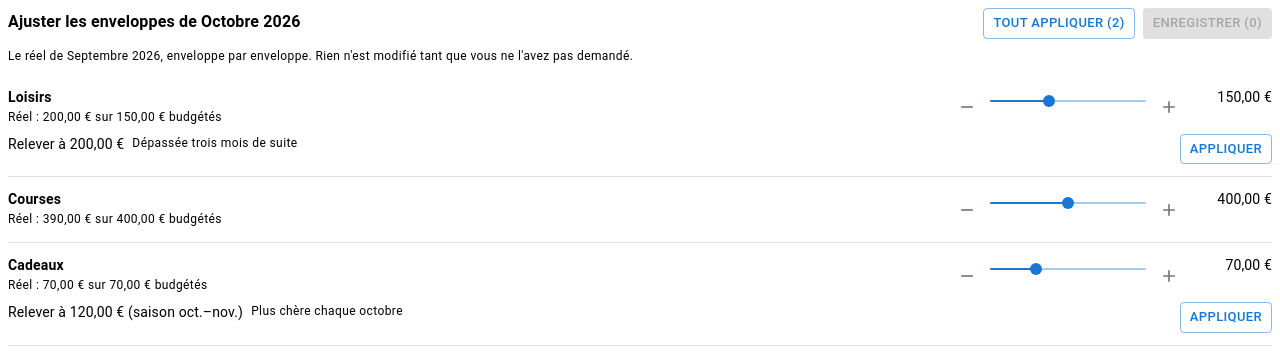
Test: EnvelopeAdjustments › stepping back to the stored amount leaves nothing to save
This screenshot has width=1280, height=363.
Click the button named "Augmenter Courses": [1169, 210] box [1154,189,1184,230]
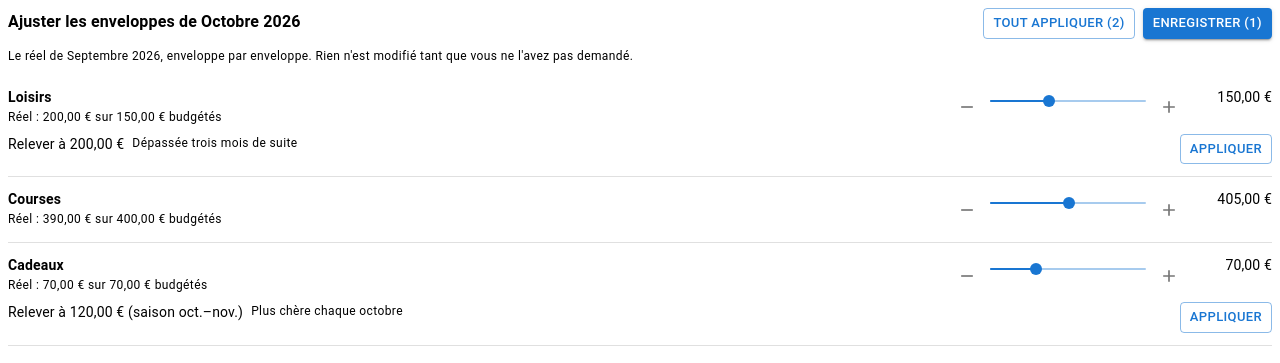
Click the button named "Diminuer Courses": [967, 210] box [952,189,982,230]
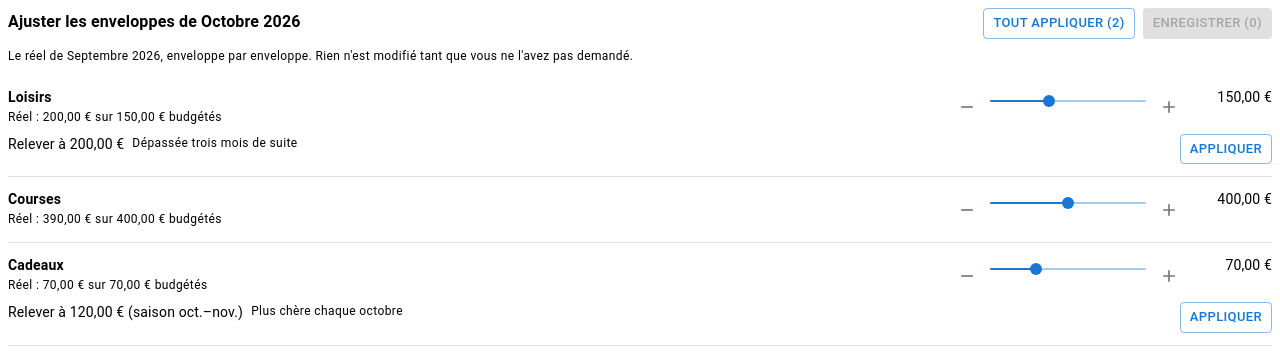
Result: the button "Enregistrer (0)" is disabled at [1143,8,1272,39]
